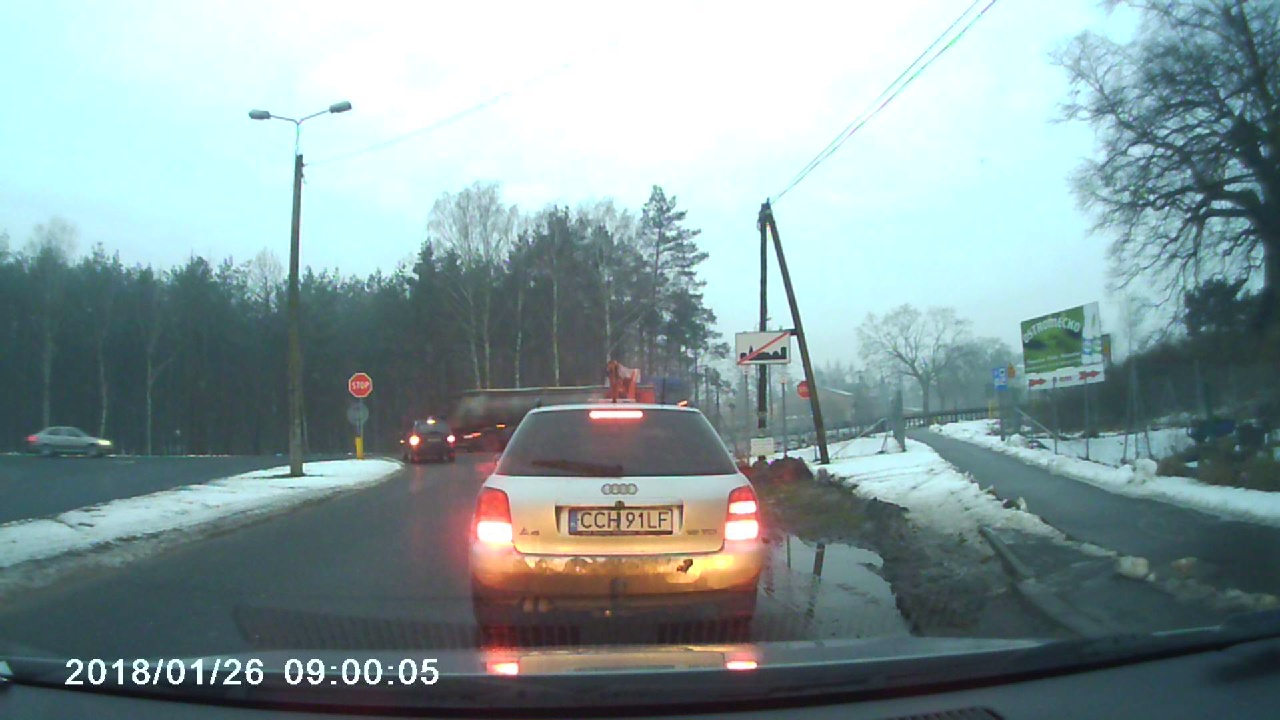B20: (345, 368, 374, 397)
D43: (729, 326, 800, 367)
